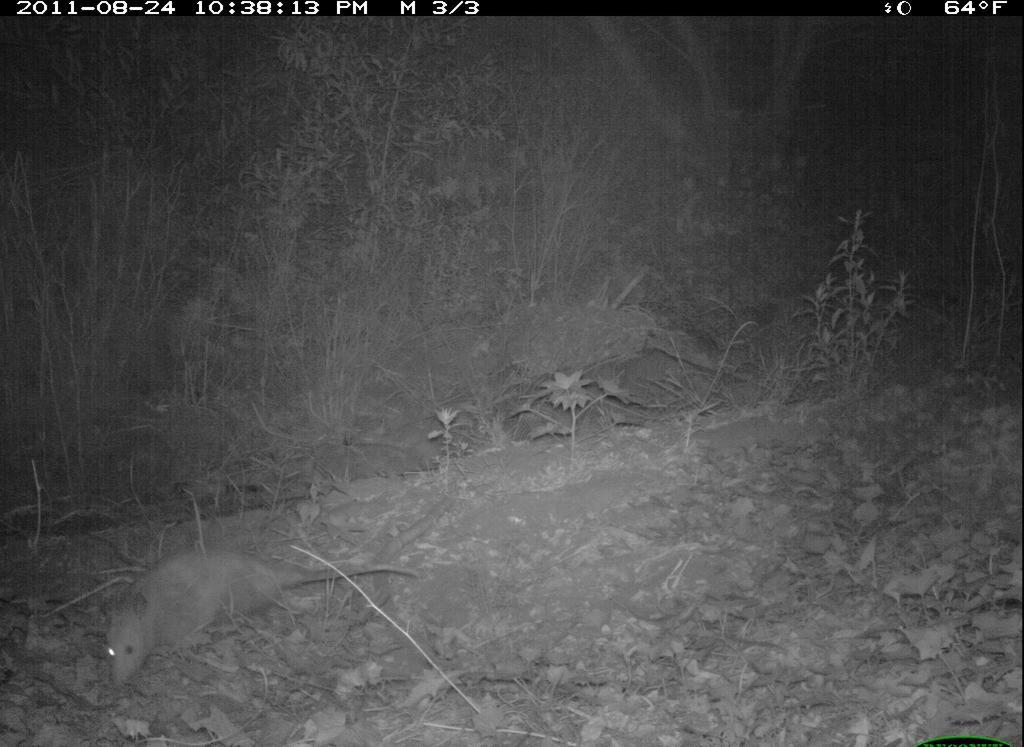opossum: (88, 525, 436, 716)
